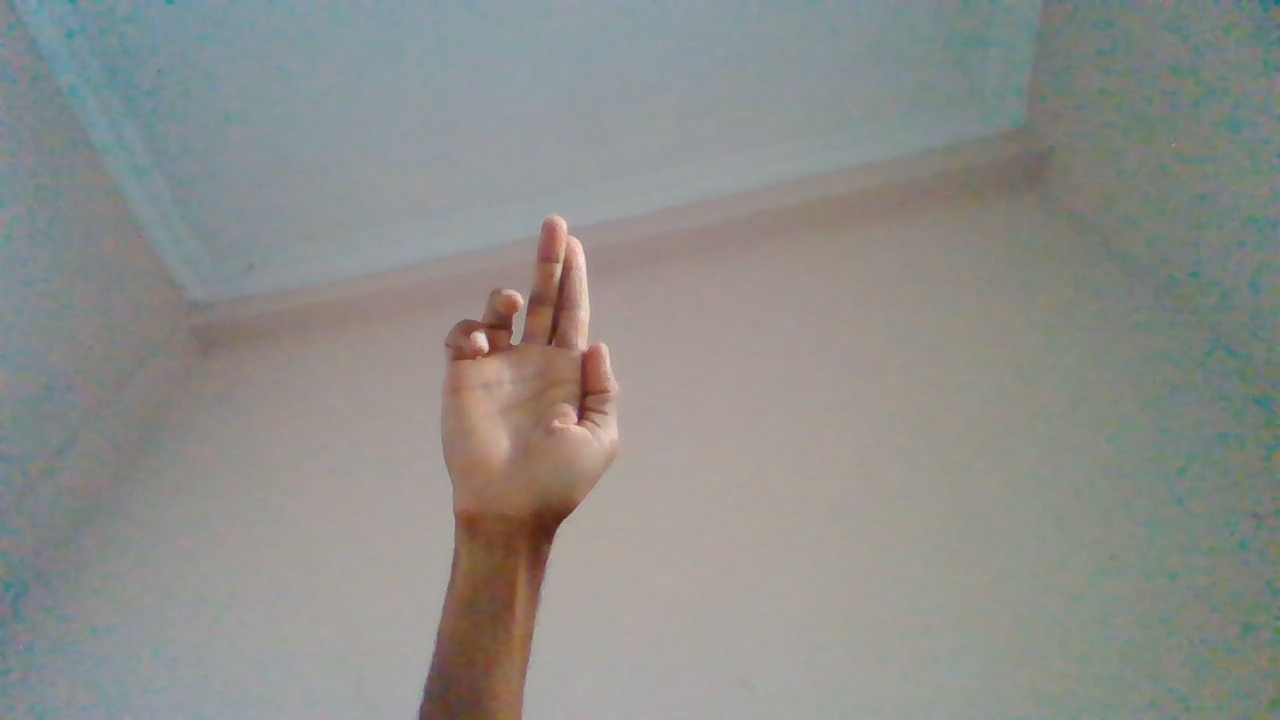gne: (434, 212, 621, 616)
